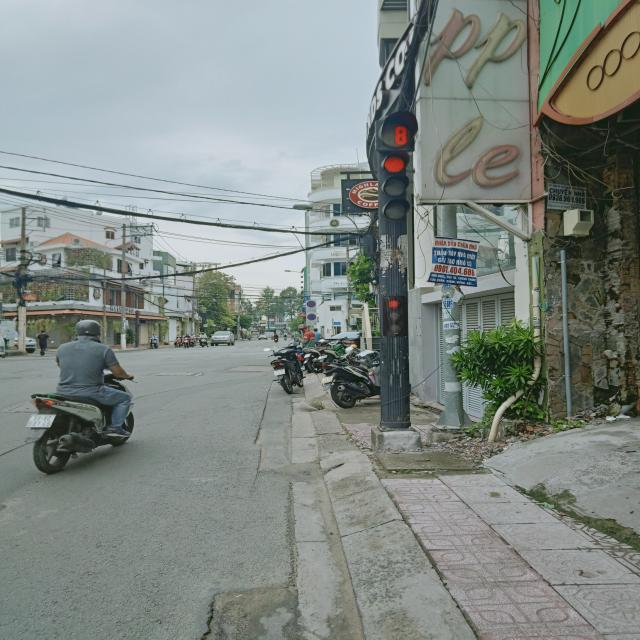Red: (375, 149, 412, 227), (378, 294, 408, 335)
